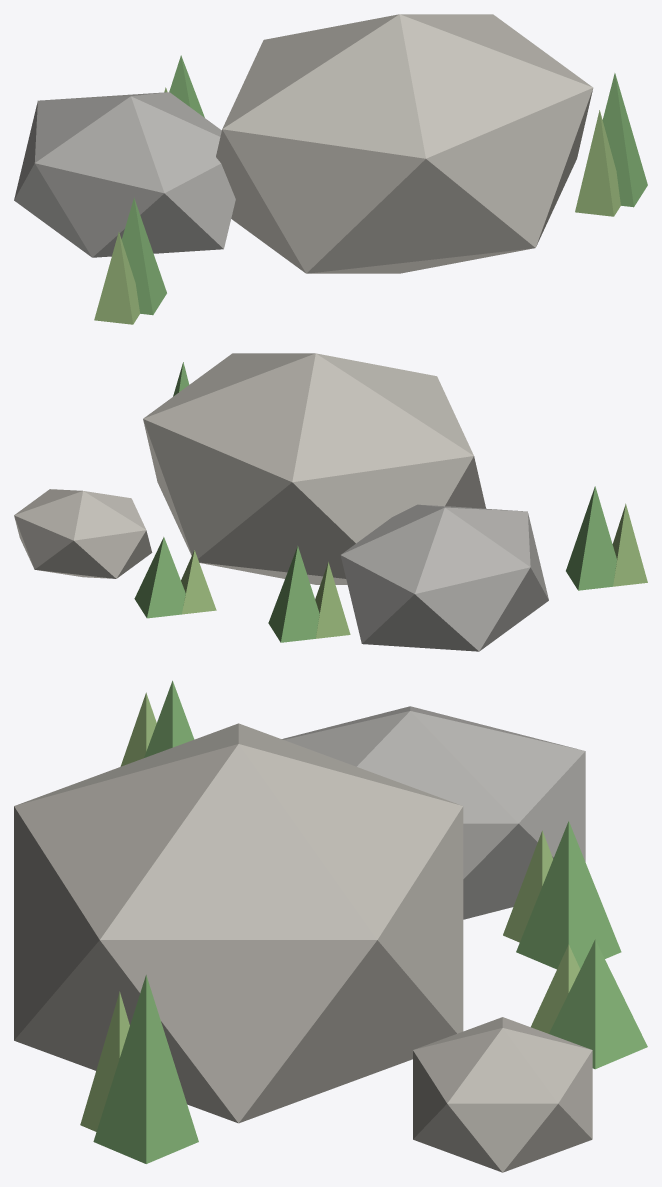
File: vegetacao__pedras.glb
3 renders of one model, top to bottom at view 1: azimuth 30°, elevation 25°; view 2: azimuth 150°, elevation 25°; view 3: azimuth 270°, elevation 25°, orthographic. The views are drawn at different scales.
Parts seen in each view (by area): view 1: vegetacao__pedras; view 2: vegetacao__pedras; view 3: vegetacao__pedras.
Part boxes in pixels (x1,y1,x2,y2): vegetacao__pedras: (14, 14, 647, 324); vegetacao__pedras: (14, 353, 647, 651); vegetacao__pedras: (14, 680, 647, 1172).
Size of the model in its own units: 0.6959 by 0.3 by 0.4801.
